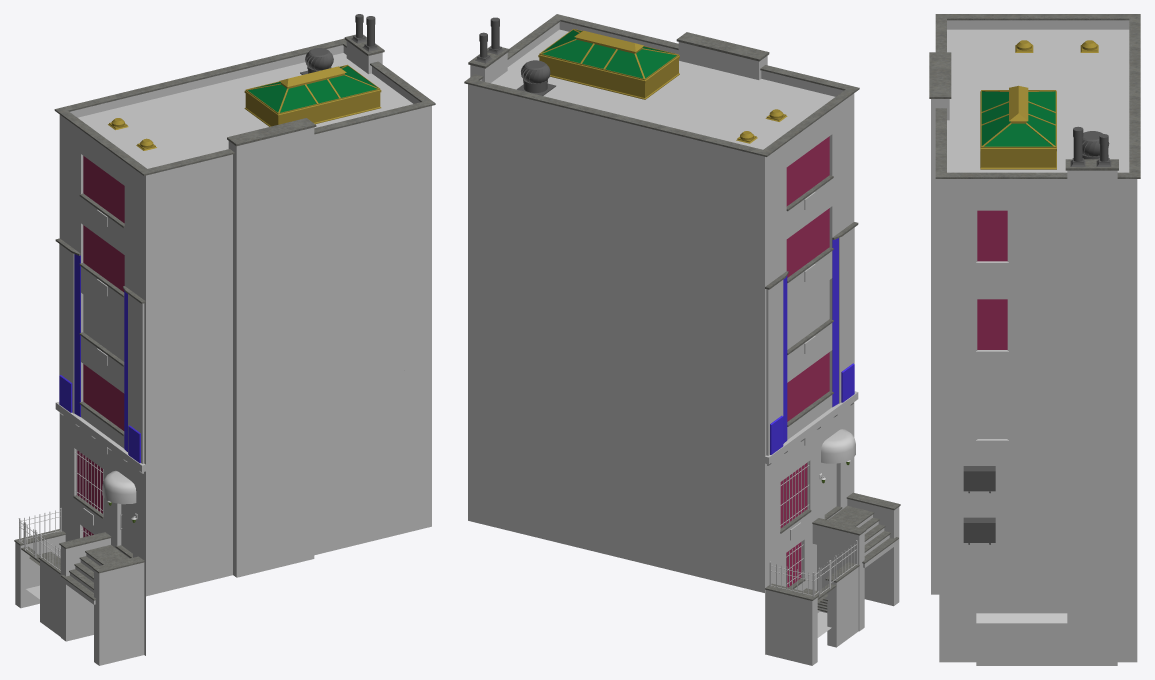
Rendered from mcp_building_13_LOD_0.FBX.
3 renders of one model, left to right at view 1: azimuth 30°, elevation 25°; view 2: azimuth 150°, elevation 25°; view 3: azimuth 270°, elevation 25°, orthographic. The views are drawn at different scales.
Visible parts, largest first — view 1: mcp_building_13_walls, mcp_building_13, mcp_building_13_roof, mcp_building_13_concrete_01, mcp_building_13_props_02, mcp_building_13_metal; view 2: mcp_building_13_walls, mcp_building_13, mcp_building_13_roof, mcp_building_13_concrete_01, mcp_building_13_props_02, mcp_building_13_metal, mcp_building_13_props_03, mcp_building_13_air_vent_01; view 3: mcp_building_13_walls, mcp_building_13_roof, mcp_building_13_concrete_01, mcp_building_13_props_02, mcp_building_13, mcp_building_13_props_01, mcp_building_13_props_03, mcp_building_13_air_vent_01.
Boxes of the visible parts, <box> form: mcp_building_13_walls: <box>15,41,431,665</box>; mcp_building_13: <box>59,156,140,553</box>; mcp_building_13_roof: <box>78,53,412,168</box>; mcp_building_13_concrete_01: <box>14,34,435,600</box>; mcp_building_13_props_02: <box>108,64,381,150</box>; mcp_building_13_metal: <box>18,450,103,571</box>; mcp_building_13_walls: <box>468,21,899,665</box>; mcp_building_13: <box>770,136,855,590</box>; mcp_building_13_roof: <box>491,29,834,149</box>; mcp_building_13_concrete_01: <box>464,14,900,637</box>; mcp_building_13_props_02: <box>538,29,787,143</box>; mcp_building_13_metal: <box>769,462,857,597</box>; mcp_building_13_props_03: <box>475,17,503,63</box>; mcp_building_13_air_vent_01: <box>521,60,550,86</box>; mcp_building_13_walls: <box>931,20,1137,665</box>; mcp_building_13_roof: <box>947,29,1129,172</box>; mcp_building_13_concrete_01: <box>929,14,1140,178</box>; mcp_building_13_props_02: <box>980,40,1098,169</box>; mcp_building_13: <box>976,210,1008,443</box>; mcp_building_13_props_01: <box>963,466,995,544</box>; mcp_building_13_props_03: <box>1070,126,1111,166</box>; mcp_building_13_air_vent_01: <box>1082,131,1109,159</box>.
Size of the model in its own units: 1876 by 2732 by 870.
